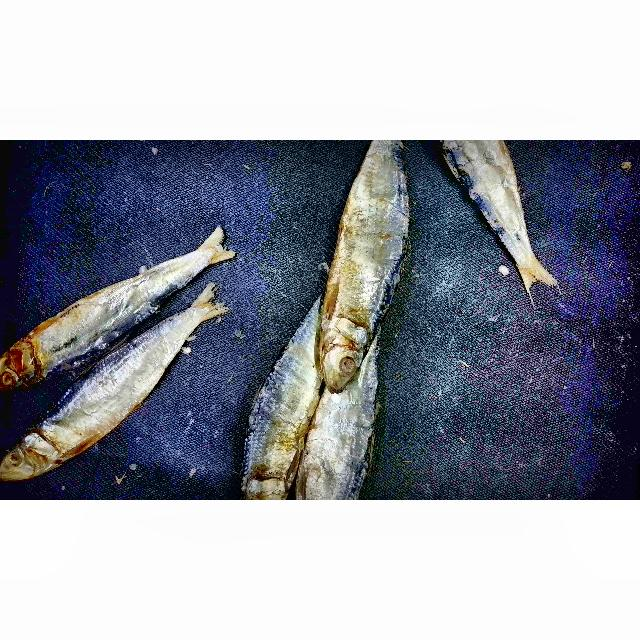Grade_C_Body: (51, 315, 188, 452), (36, 256, 177, 373), (238, 344, 318, 476), (298, 392, 375, 500)
Grade_C_Head: (322, 152, 414, 319), (439, 140, 538, 249), (0, 421, 66, 496), (316, 312, 372, 397), (0, 324, 53, 396)
Grade_C_Tail: (513, 248, 562, 302), (183, 275, 232, 329), (192, 223, 240, 273)
